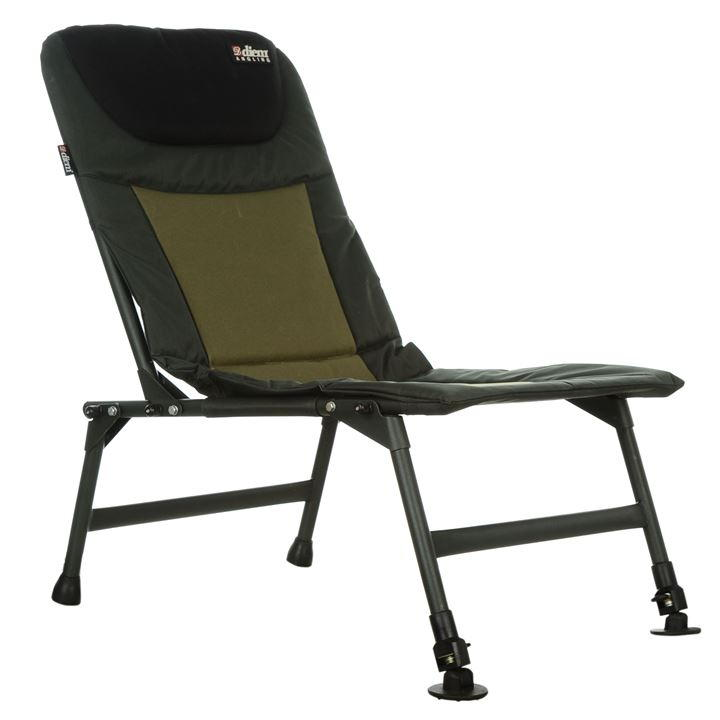chairs: (1, 1, 716, 712)
